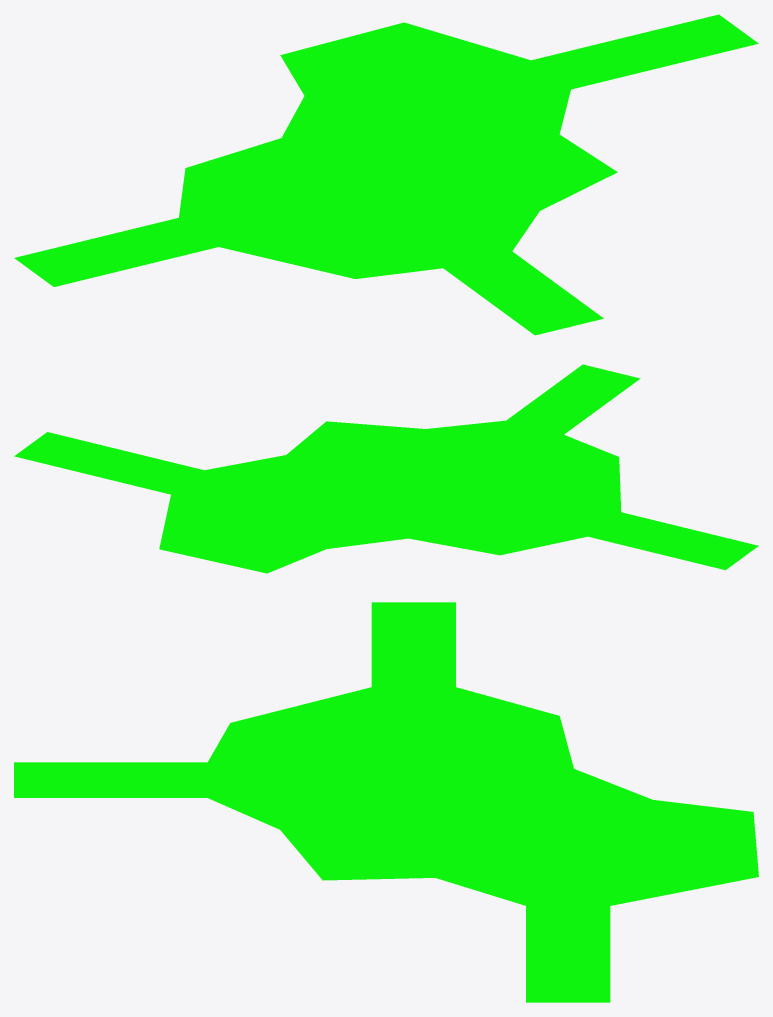
File: s03a_td2-floor.glb
The picture shows the model from 3 angles, top to bottom: view 1: azimuth 30°, elevation 25°; view 2: azimuth 150°, elevation 25°; view 3: azimuth 270°, elevation 25°; orthographic projection. The views are drawn at different scales.
Parts seen in each view (by area): view 1: collision_floor-colonly; view 2: collision_floor-colonly; view 3: collision_floor-colonly.
Part boxes in pixels (left/top/right/bottom): collision_floor-colonly: left=14, top=14, right=758, bottom=335; collision_floor-colonly: left=14, top=364, right=758, bottom=573; collision_floor-colonly: left=14, top=602, right=758, bottom=1002.
Size of the model in its own units: 67.5 by 0.1523 by 53.1.
